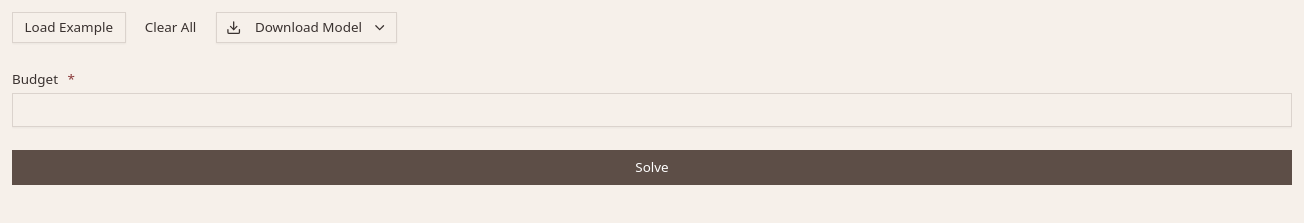
DynamicFormRenderer — export validates before previewing › blocks export and surfaces field errors when required input is missing
// Form left empty → export must validate first and never hit the preview.
Click the button "Download Model".
click(306, 27)  # box [216,12,398,43]
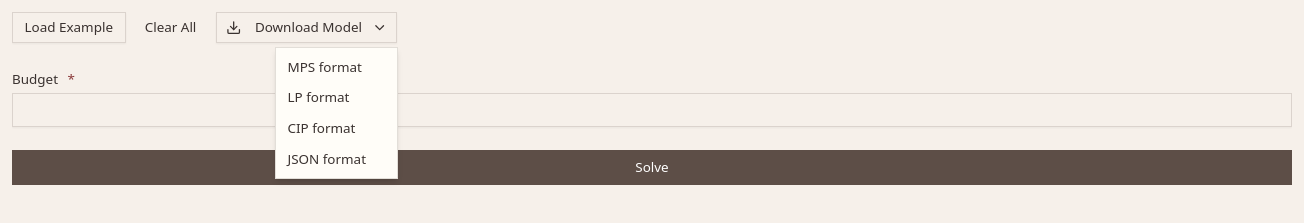
Click the menu item "MPS format".
click(325, 67)  # box [288,58,362,76]
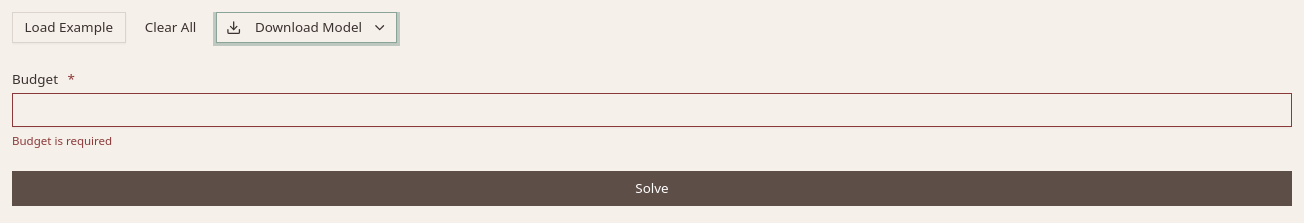
Result: the text "Budget is required" is shown at [12,133,112,148]
